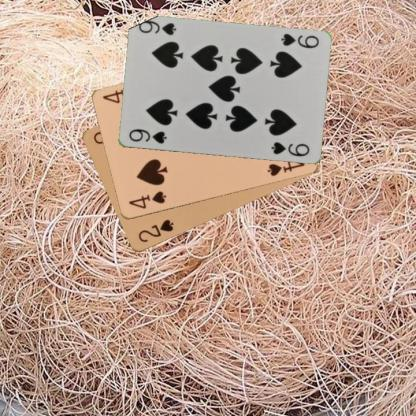2s: (135, 216, 175, 244)
4s: (126, 188, 168, 210)
9s: (126, 126, 168, 145), (278, 31, 320, 50)
